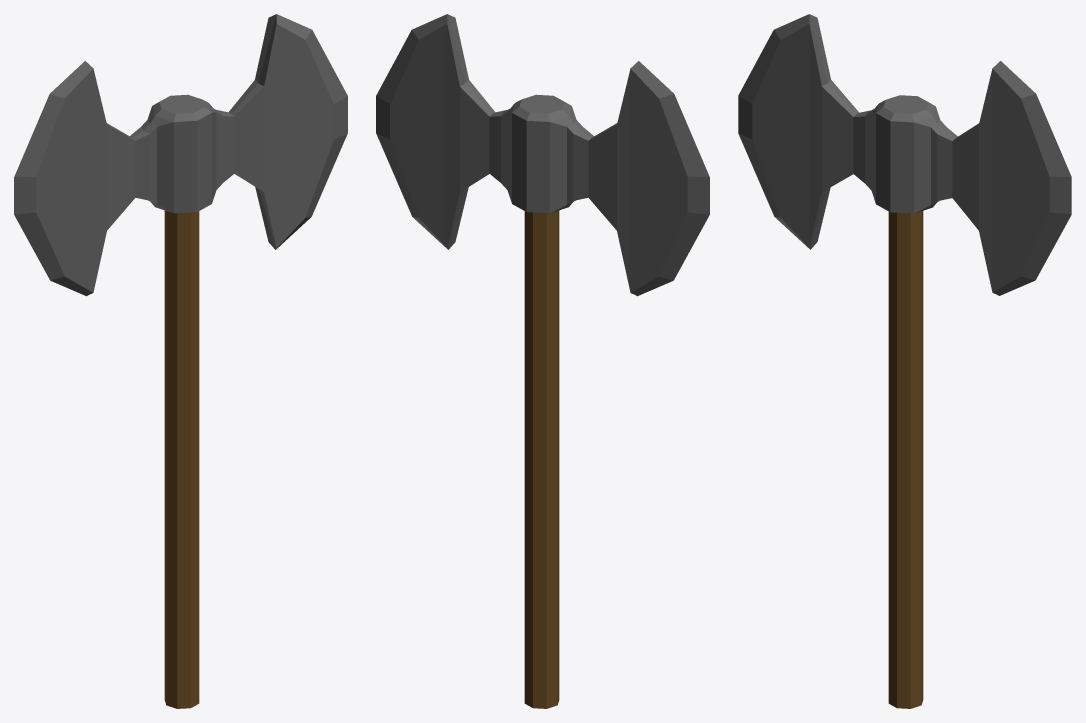
Rendered from BattleAxe.fbx.
3 renders of one model, left to right at view 1: azimuth 30°, elevation 25°; view 2: azimuth 150°, elevation 25°; view 3: azimuth 330°, elevation 25°, orthographic.
Visible parts, largest first — view 1: BattleAxe; view 2: BattleAxe; view 3: BattleAxe.
Boxes of the visible parts, x1,y1,x2,y2 form: BattleAxe: (14, 14, 347, 708); BattleAxe: (376, 14, 709, 708); BattleAxe: (738, 14, 1071, 708).
Bounding box in the file's own units: 78.43 × 149 × 12.63.
